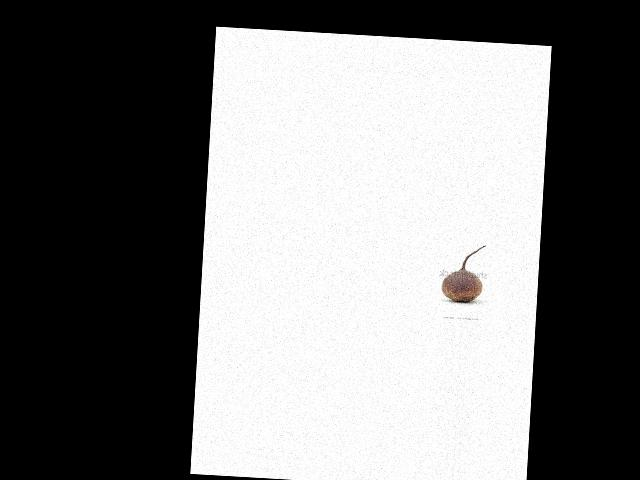beet: (440, 242, 485, 303)
